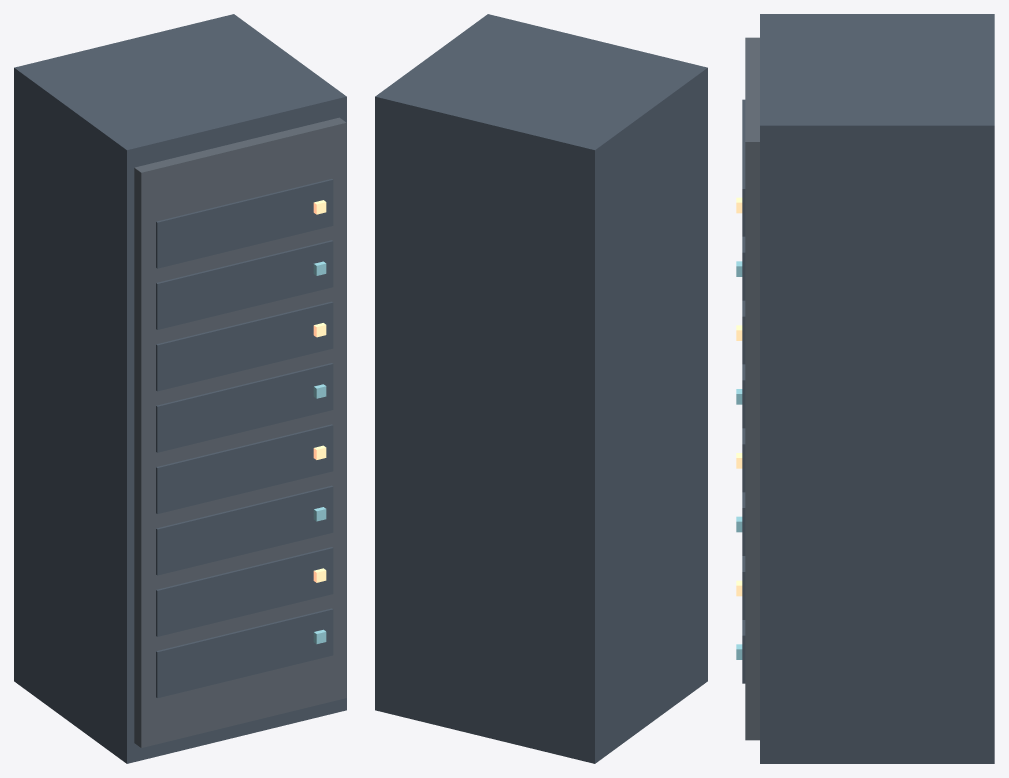
The model's file is Lab_Server_Rack.fbx.
3 renders of one model, left to right at view 1: azimuth 30°, elevation 25°; view 2: azimuth 150°, elevation 25°; view 3: azimuth 270°, elevation 25°, orthographic. The views are drawn at different scales.
Visible parts, largest first — view 1: Lab_Server_Rack; view 2: Lab_Server_Rack; view 3: Lab_Server_Rack.
Boxes of the visible parts, x1,y1,x2,y2 form: Lab_Server_Rack: [14, 14, 346, 763]; Lab_Server_Rack: [375, 14, 707, 763]; Lab_Server_Rack: [736, 14, 994, 763].
Bounding box in the file's own units: 0.9 × 2.4 × 0.88.
